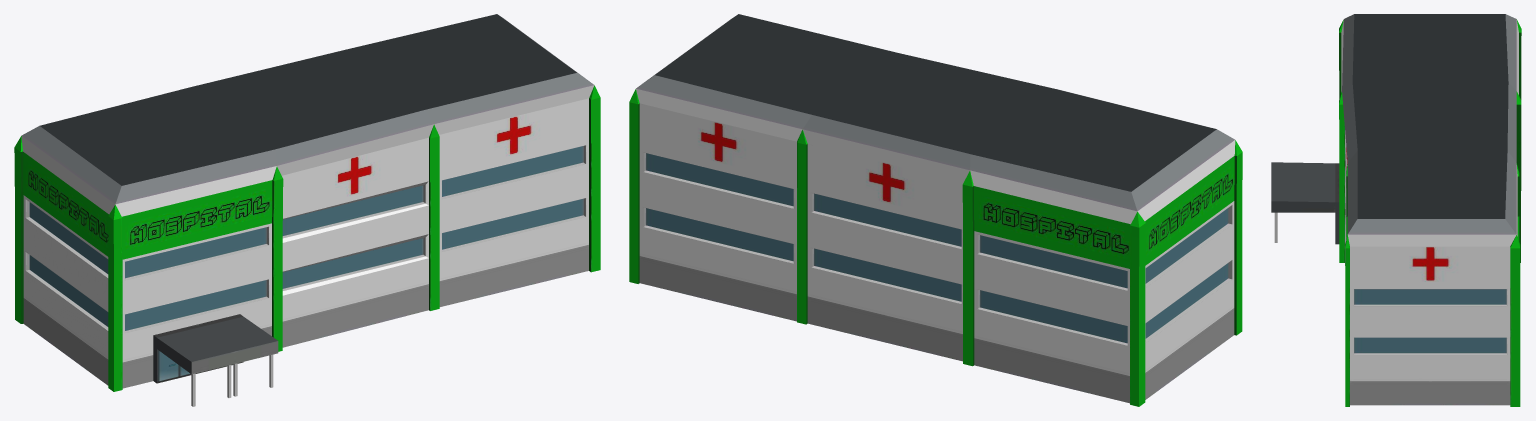
File: Hospital.glb
3 views of the same model, side by side, from view 1: azimuth 30°, elevation 25°; view 2: azimuth 150°, elevation 25°; view 3: azimuth 270°, elevation 25° (orthographic). The views are drawn at different scales.
Parts seen in each view (by area): view 1: Hospital; view 2: Hospital; view 3: Hospital.
Boxes of the visible parts, x1=… form: Hospital: x1=14, y1=14, x2=600, y2=406; Hospital: x1=629, y1=14, x2=1242, y2=406; Hospital: x1=1271, y1=14, x2=1521, y2=406.
Bounding box in the file's own units: 0.8945 × 0.3426 × 0.4297.
1 material, 1 textured.
